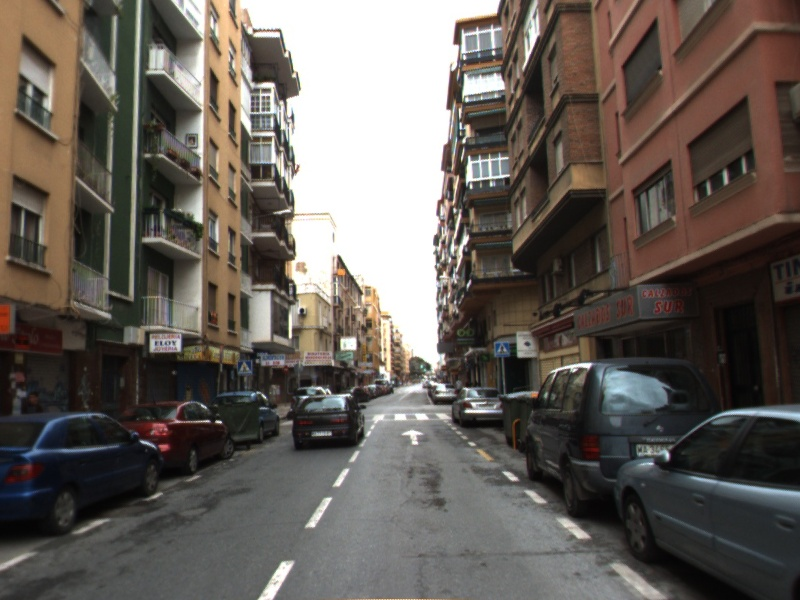STRAIGHT: (399, 427, 427, 447)
